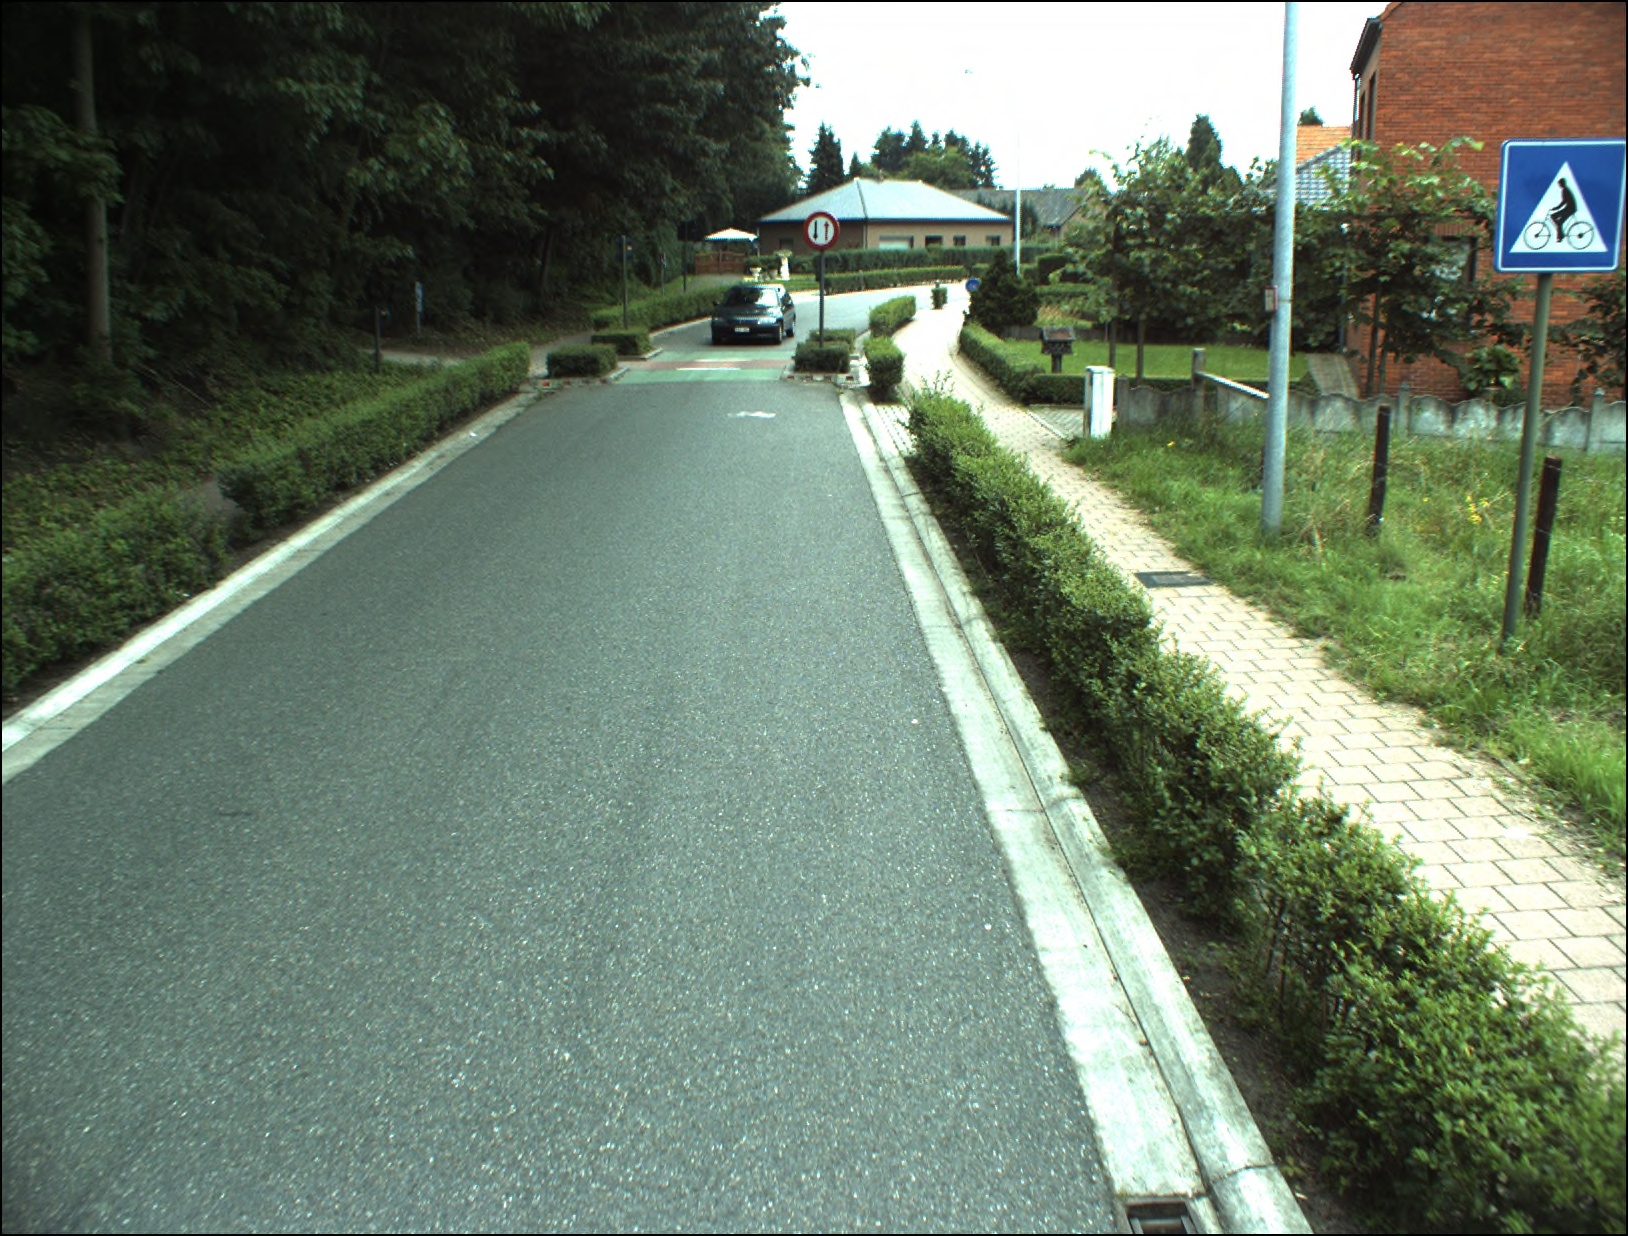roadnarrow2: (802, 209, 843, 249)
